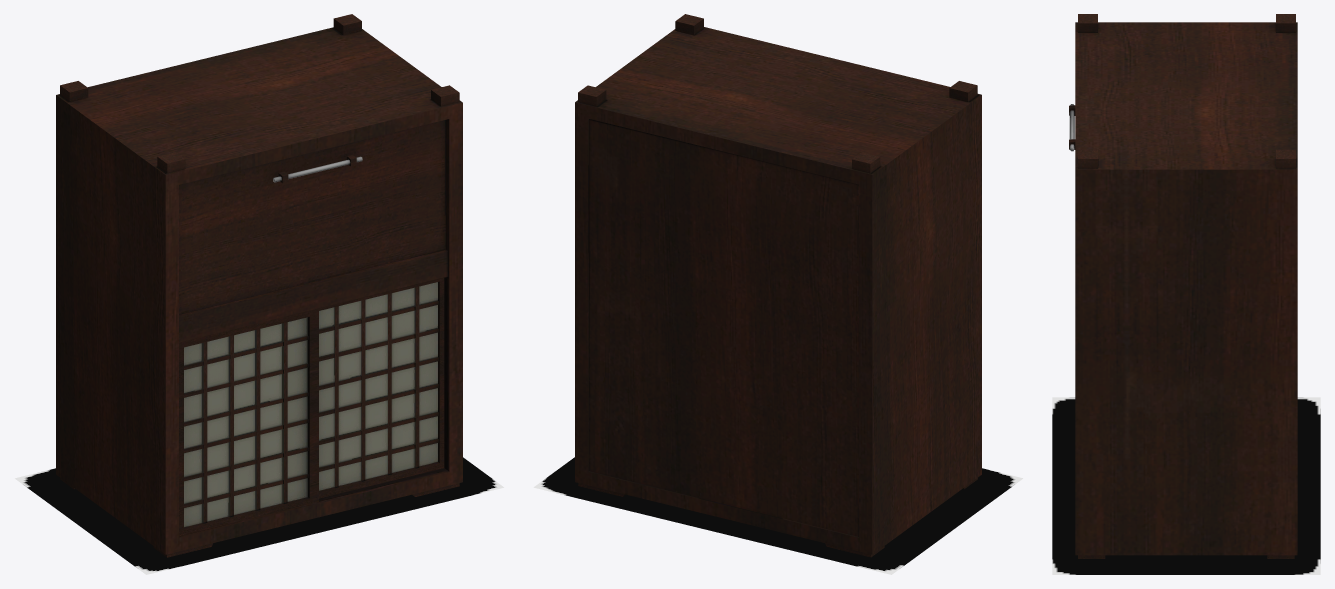
Rendered from jj_rixi_guizi02.FBX.
The picture shows the model from 3 angles, left to right: view 1: azimuth 30°, elevation 25°; view 2: azimuth 150°, elevation 25°; view 3: azimuth 270°, elevation 25°; orthographic projection.
Visible parts, largest first — view 1: jj_rixi_guizi02, shadow; view 2: jj_rixi_guizi02, shadow; view 3: jj_rixi_guizi02, shadow.
Part boxes in pixels (x1,y1,x2,y2): jj_rixi_guizi02: [56, 14, 462, 557]; shadow: [15, 457, 503, 574]; jj_rixi_guizi02: [575, 14, 981, 557]; shadow: [533, 457, 1022, 574]; jj_rixi_guizi02: [1069, 14, 1297, 558]; shadow: [1052, 397, 1320, 574].
Bounding box in the file's own units: 131 × 139 × 83.51.
